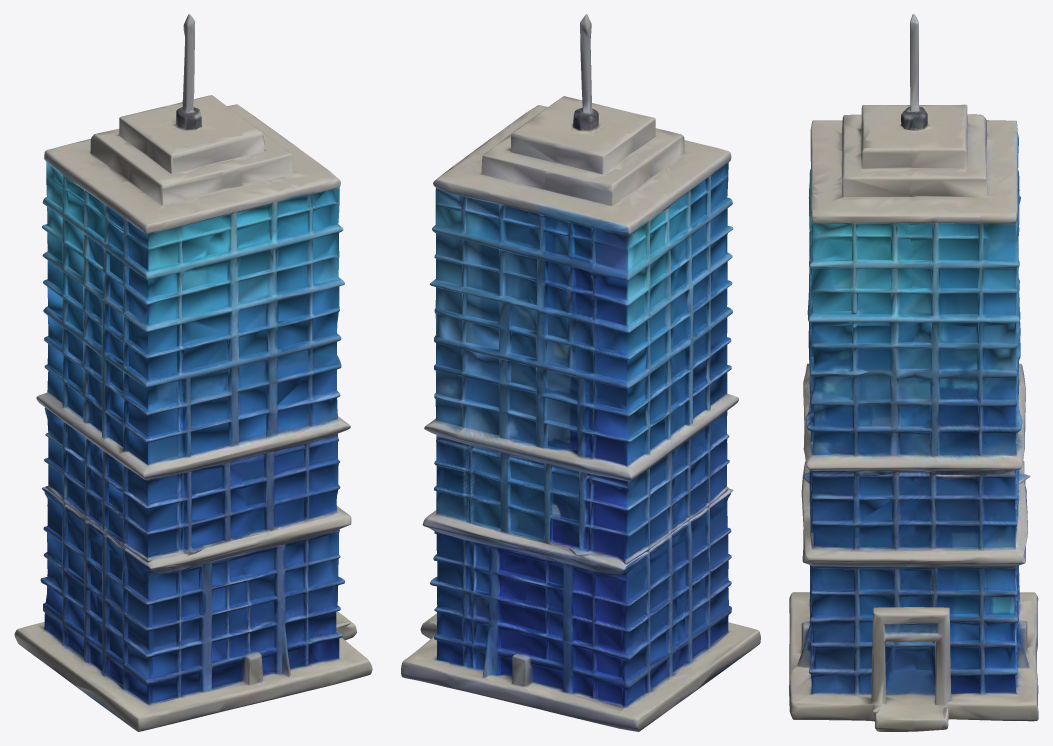
Rendered from office.glb.
The picture shows the model from 3 angles, left to right: view 1: azimuth 30°, elevation 25°; view 2: azimuth 150°, elevation 25°; view 3: azimuth 270°, elevation 25°; orthographic projection.
Visible parts, largest first — view 1: tripo_node_09383f92-bebf-456e-b9df-6afa272c8f98; view 2: tripo_node_09383f92-bebf-456e-b9df-6afa272c8f98; view 3: tripo_node_09383f92-bebf-456e-b9df-6afa272c8f98.
Part boxes in pixels (x1,y1,x2,y2): tripo_node_09383f92-bebf-456e-b9df-6afa272c8f98: (14,14,372,731); tripo_node_09383f92-bebf-456e-b9df-6afa272c8f98: (401,14,760,731); tripo_node_09383f92-bebf-456e-b9df-6afa272c8f98: (789,14,1038,731).
Bounding box in the file's own units: 0.4233 × 0.9997 × 0.3492.
Materials: 1 (1 with a texture image).
